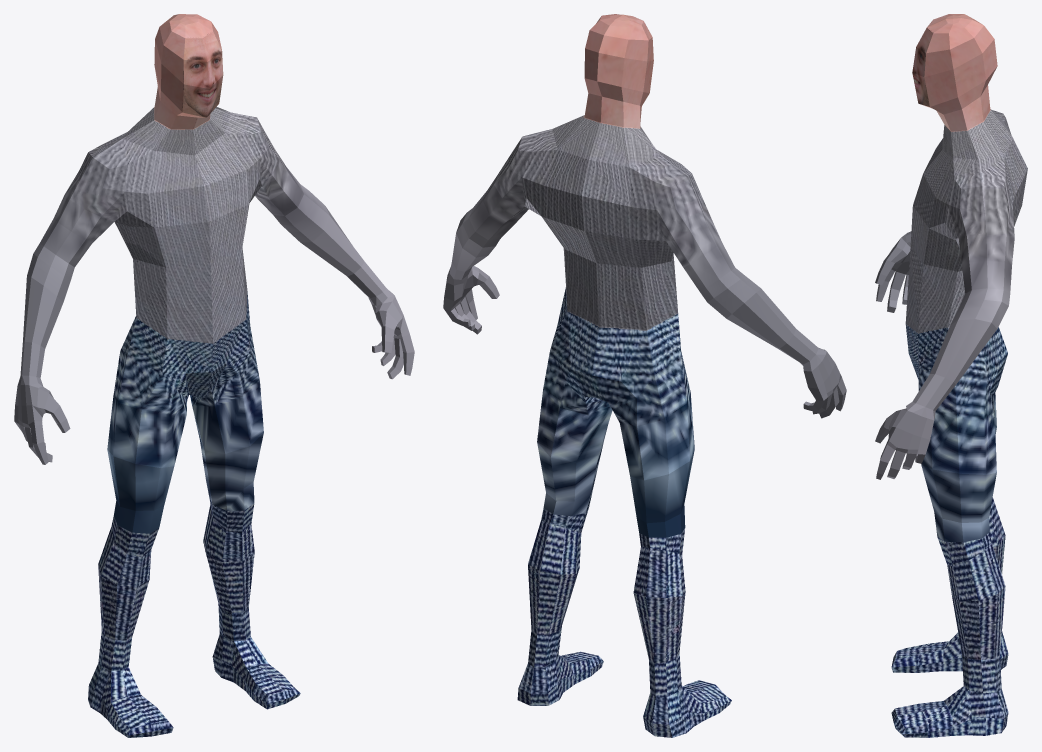
Rendered from worker.fbx.
3 renders of one model, left to right at view 1: azimuth 30°, elevation 25°; view 2: azimuth 150°, elevation 25°; view 3: azimuth 270°, elevation 25°, orthographic.
Parts seen in each view (by area): view 1: BaseMeshBKP; view 2: BaseMeshBKP; view 3: BaseMeshBKP.
Part boxes in pixels (box(x1,y1,x2,y2)): BaseMeshBKP: box(14, 14, 414, 737); BaseMeshBKP: box(443, 14, 846, 737); BaseMeshBKP: box(875, 14, 1027, 737).
Bounding box in the file's own units: 276 × 473 × 96.77.
